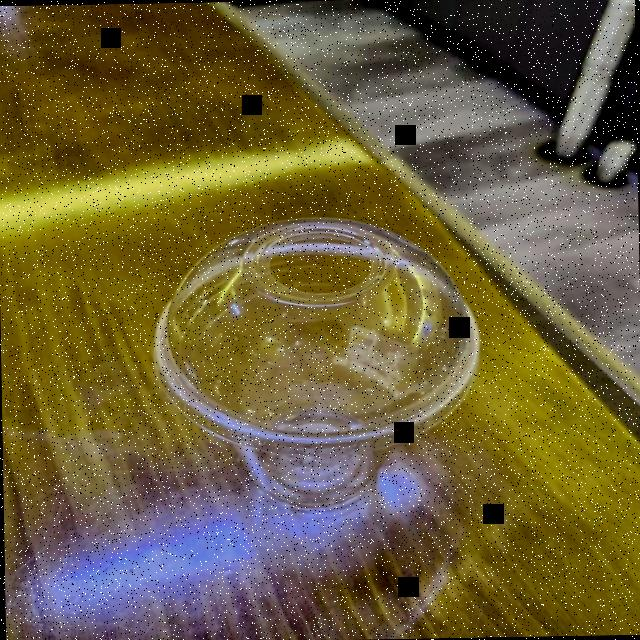plastic_cup_lid: (137, 201, 490, 457)
